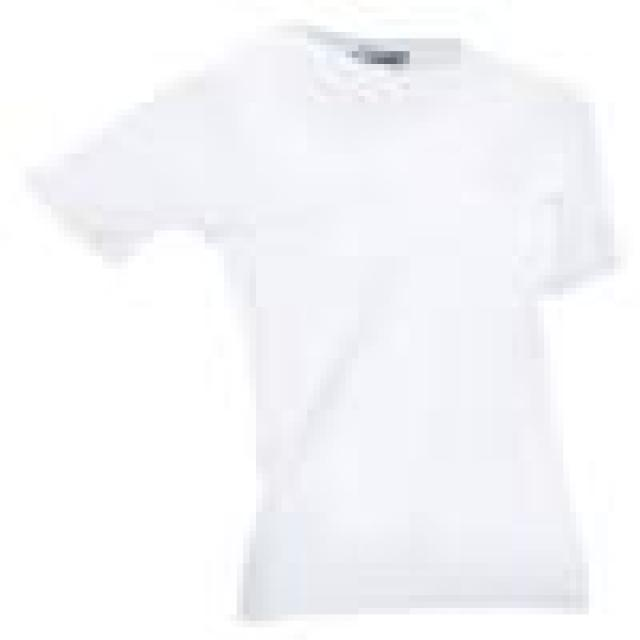Shirt: (51, 26, 629, 626)
